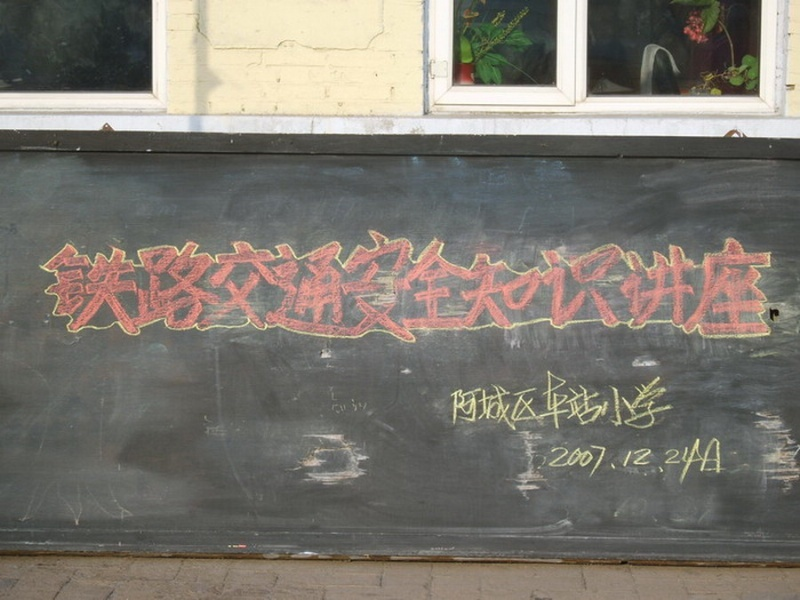text: (49, 230, 64, 344), (65, 230, 80, 344), (81, 230, 96, 344), (97, 230, 112, 344), (113, 230, 128, 344), (129, 230, 144, 344), (145, 230, 160, 344), (161, 230, 176, 344), (177, 230, 192, 344), (193, 230, 208, 344), (209, 230, 224, 344), (225, 230, 240, 344), (241, 230, 256, 344), (257, 230, 272, 344), (273, 230, 288, 344), (289, 230, 304, 344), (305, 230, 320, 344), (321, 230, 336, 344), (337, 230, 352, 344), (353, 230, 368, 344), (369, 230, 384, 344), (385, 230, 400, 344), (401, 230, 416, 344), (417, 230, 432, 344), (433, 230, 448, 344), (449, 230, 464, 344), (465, 230, 480, 344), (481, 230, 496, 344), (497, 230, 512, 344), (513, 230, 528, 344), (529, 230, 544, 344), (545, 230, 560, 344), (561, 230, 576, 344), (577, 230, 592, 344), (593, 230, 608, 344), (609, 230, 624, 344), (625, 230, 640, 344), (641, 230, 656, 344), (657, 230, 672, 344), (673, 230, 688, 344), (689, 230, 704, 344), (705, 230, 720, 344), (721, 230, 736, 344), (737, 230, 752, 344), (753, 230, 768, 344), (38, 230, 48, 344), (449, 369, 464, 434), (465, 369, 480, 434), (481, 369, 496, 434), (497, 369, 512, 434), (513, 369, 528, 434), (529, 369, 544, 434), (545, 369, 560, 434), (561, 369, 576, 434), (577, 369, 592, 434), (593, 369, 608, 434), (609, 369, 624, 434), (625, 369, 640, 434), (641, 369, 656, 434), (657, 369, 672, 434), (561, 438, 576, 488), (577, 438, 592, 488), (593, 438, 608, 488), (609, 438, 624, 488), (625, 438, 640, 488), (641, 438, 656, 488), (657, 438, 672, 488), (673, 438, 688, 488), (689, 438, 704, 488), (705, 438, 720, 488), (547, 438, 560, 488), (769, 230, 772, 344), (721, 438, 726, 488), (673, 369, 676, 434)
